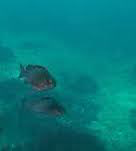smallfish: (12, 55, 55, 91)
